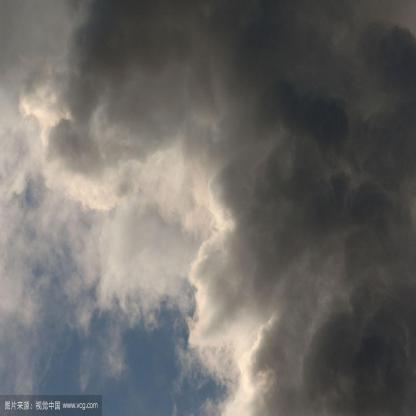smoke: (237, 3, 414, 412), (2, 1, 237, 195), (185, 194, 236, 312)
